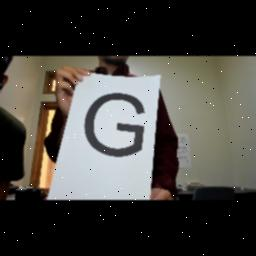g: (81, 88, 149, 162)
